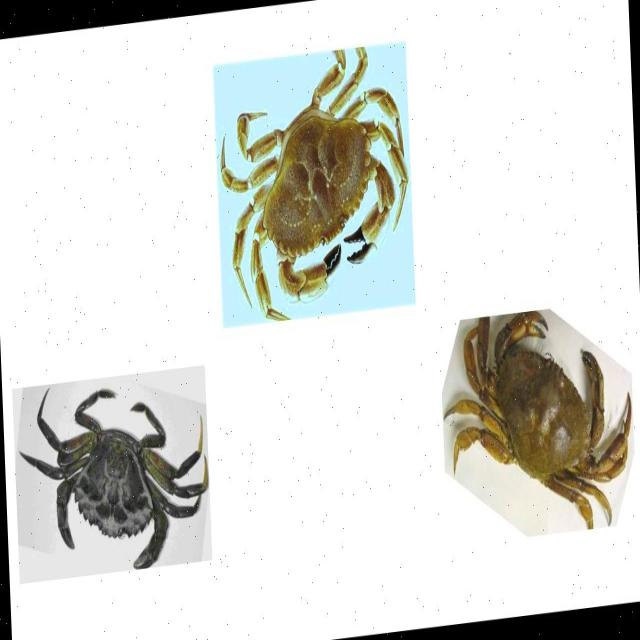egc: (19, 385, 209, 570)
